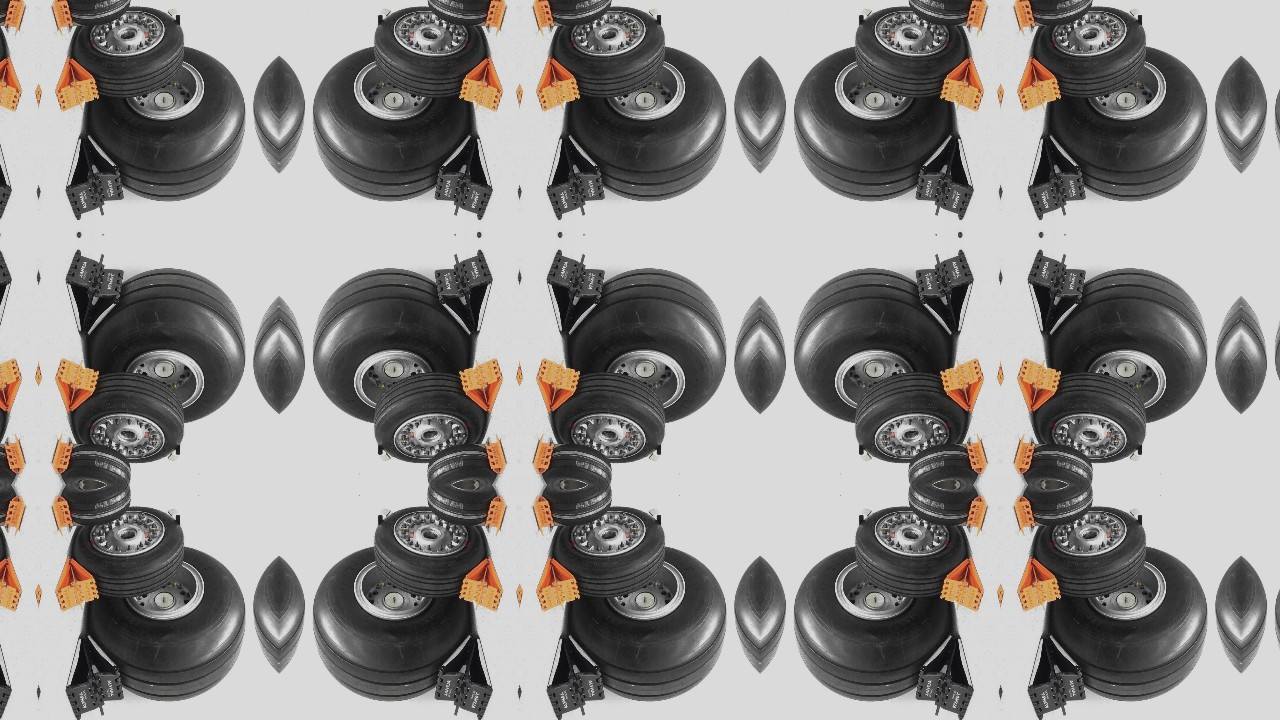chock: (62, 129, 125, 222), (432, 129, 495, 222), (544, 129, 607, 222), (914, 129, 977, 222), (1025, 129, 1088, 222), (62, 248, 125, 340), (432, 248, 495, 340), (544, 248, 607, 340), (914, 248, 977, 340), (1025, 248, 1088, 340), (62, 630, 125, 720), (432, 630, 495, 720), (544, 630, 607, 720), (914, 630, 977, 720), (1025, 630, 1088, 720), (53, 54, 99, 113), (458, 54, 504, 113), (535, 54, 581, 113), (940, 54, 986, 113), (1016, 54, 1062, 113), (53, 356, 99, 415), (458, 356, 504, 415), (535, 356, 581, 415), (940, 356, 986, 415), (1016, 356, 1062, 415), (53, 555, 99, 614), (458, 555, 504, 614), (535, 555, 581, 614), (940, 555, 986, 614), (1016, 555, 1062, 614), (0, 54, 23, 113), (0, 356, 23, 415), (0, 555, 23, 614), (0, 129, 14, 222), (0, 248, 14, 340), (0, 630, 14, 720), (2, 433, 27, 476), (49, 433, 74, 476), (483, 433, 508, 476), (531, 433, 556, 476), (965, 433, 990, 476), (1012, 433, 1037, 476), (2, 494, 27, 537), (49, 494, 74, 537), (483, 494, 508, 537), (531, 494, 556, 537), (965, 494, 990, 537), (1012, 494, 1037, 537), (2, 0, 27, 36), (49, 0, 74, 36), (483, 0, 508, 36), (531, 0, 556, 36), (965, 0, 990, 36), (1012, 0, 1037, 36)
wheel: (307, 42, 476, 205), (563, 42, 732, 205), (82, 42, 250, 205), (789, 42, 957, 205), (1045, 42, 1213, 205), (307, 265, 476, 427), (563, 265, 732, 427), (307, 543, 476, 705), (563, 543, 732, 705), (82, 265, 250, 427), (789, 265, 957, 427), (1045, 265, 1213, 427), (82, 543, 250, 705), (789, 543, 957, 705), (1045, 543, 1213, 705), (73, 373, 185, 465), (372, 373, 484, 465), (555, 373, 667, 465), (854, 373, 966, 465), (1036, 373, 1148, 465), (73, 505, 185, 597), (372, 505, 484, 597), (555, 505, 667, 597), (854, 505, 966, 597), (1036, 505, 1148, 597), (73, 5, 185, 96), (372, 5, 484, 96), (555, 5, 667, 96), (854, 5, 966, 96), (1036, 5, 1148, 96), (60, 441, 132, 485), (907, 441, 979, 485), (1023, 441, 1095, 485), (60, 485, 132, 529), (907, 485, 979, 529), (1023, 485, 1095, 529), (426, 441, 497, 485), (542, 441, 613, 485), (426, 485, 497, 529), (542, 485, 613, 529), (60, 0, 132, 28), (907, 0, 979, 28), (1023, 0, 1095, 28), (426, 0, 497, 28), (542, 0, 613, 28), (1270, 42, 1280, 205), (1270, 265, 1280, 427), (1270, 543, 1280, 705), (0, 441, 16, 485), (0, 485, 16, 529), (0, 0, 16, 28)
